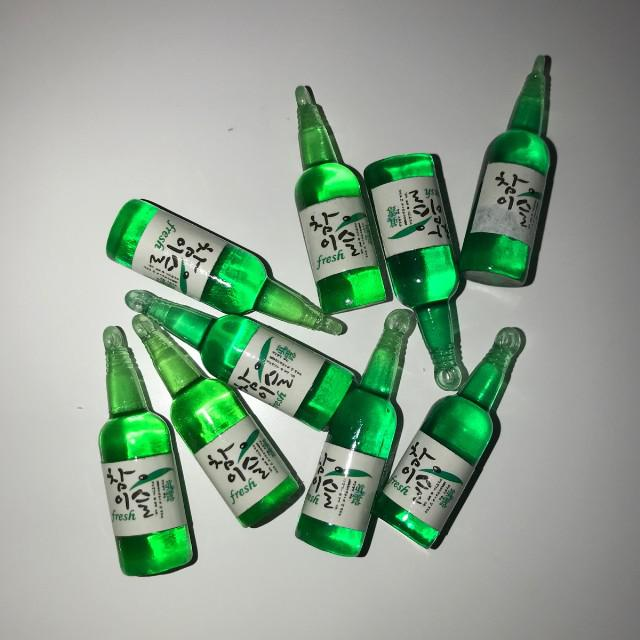soju: (91, 54, 563, 583)
